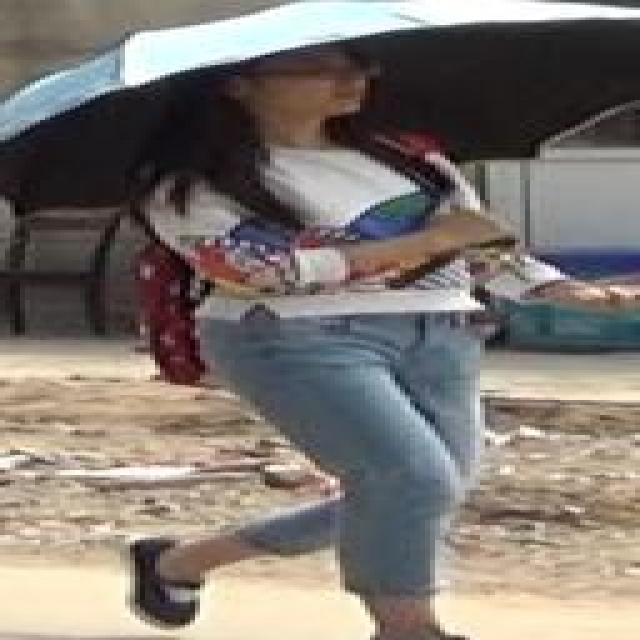adult: (165, 47, 571, 640)
